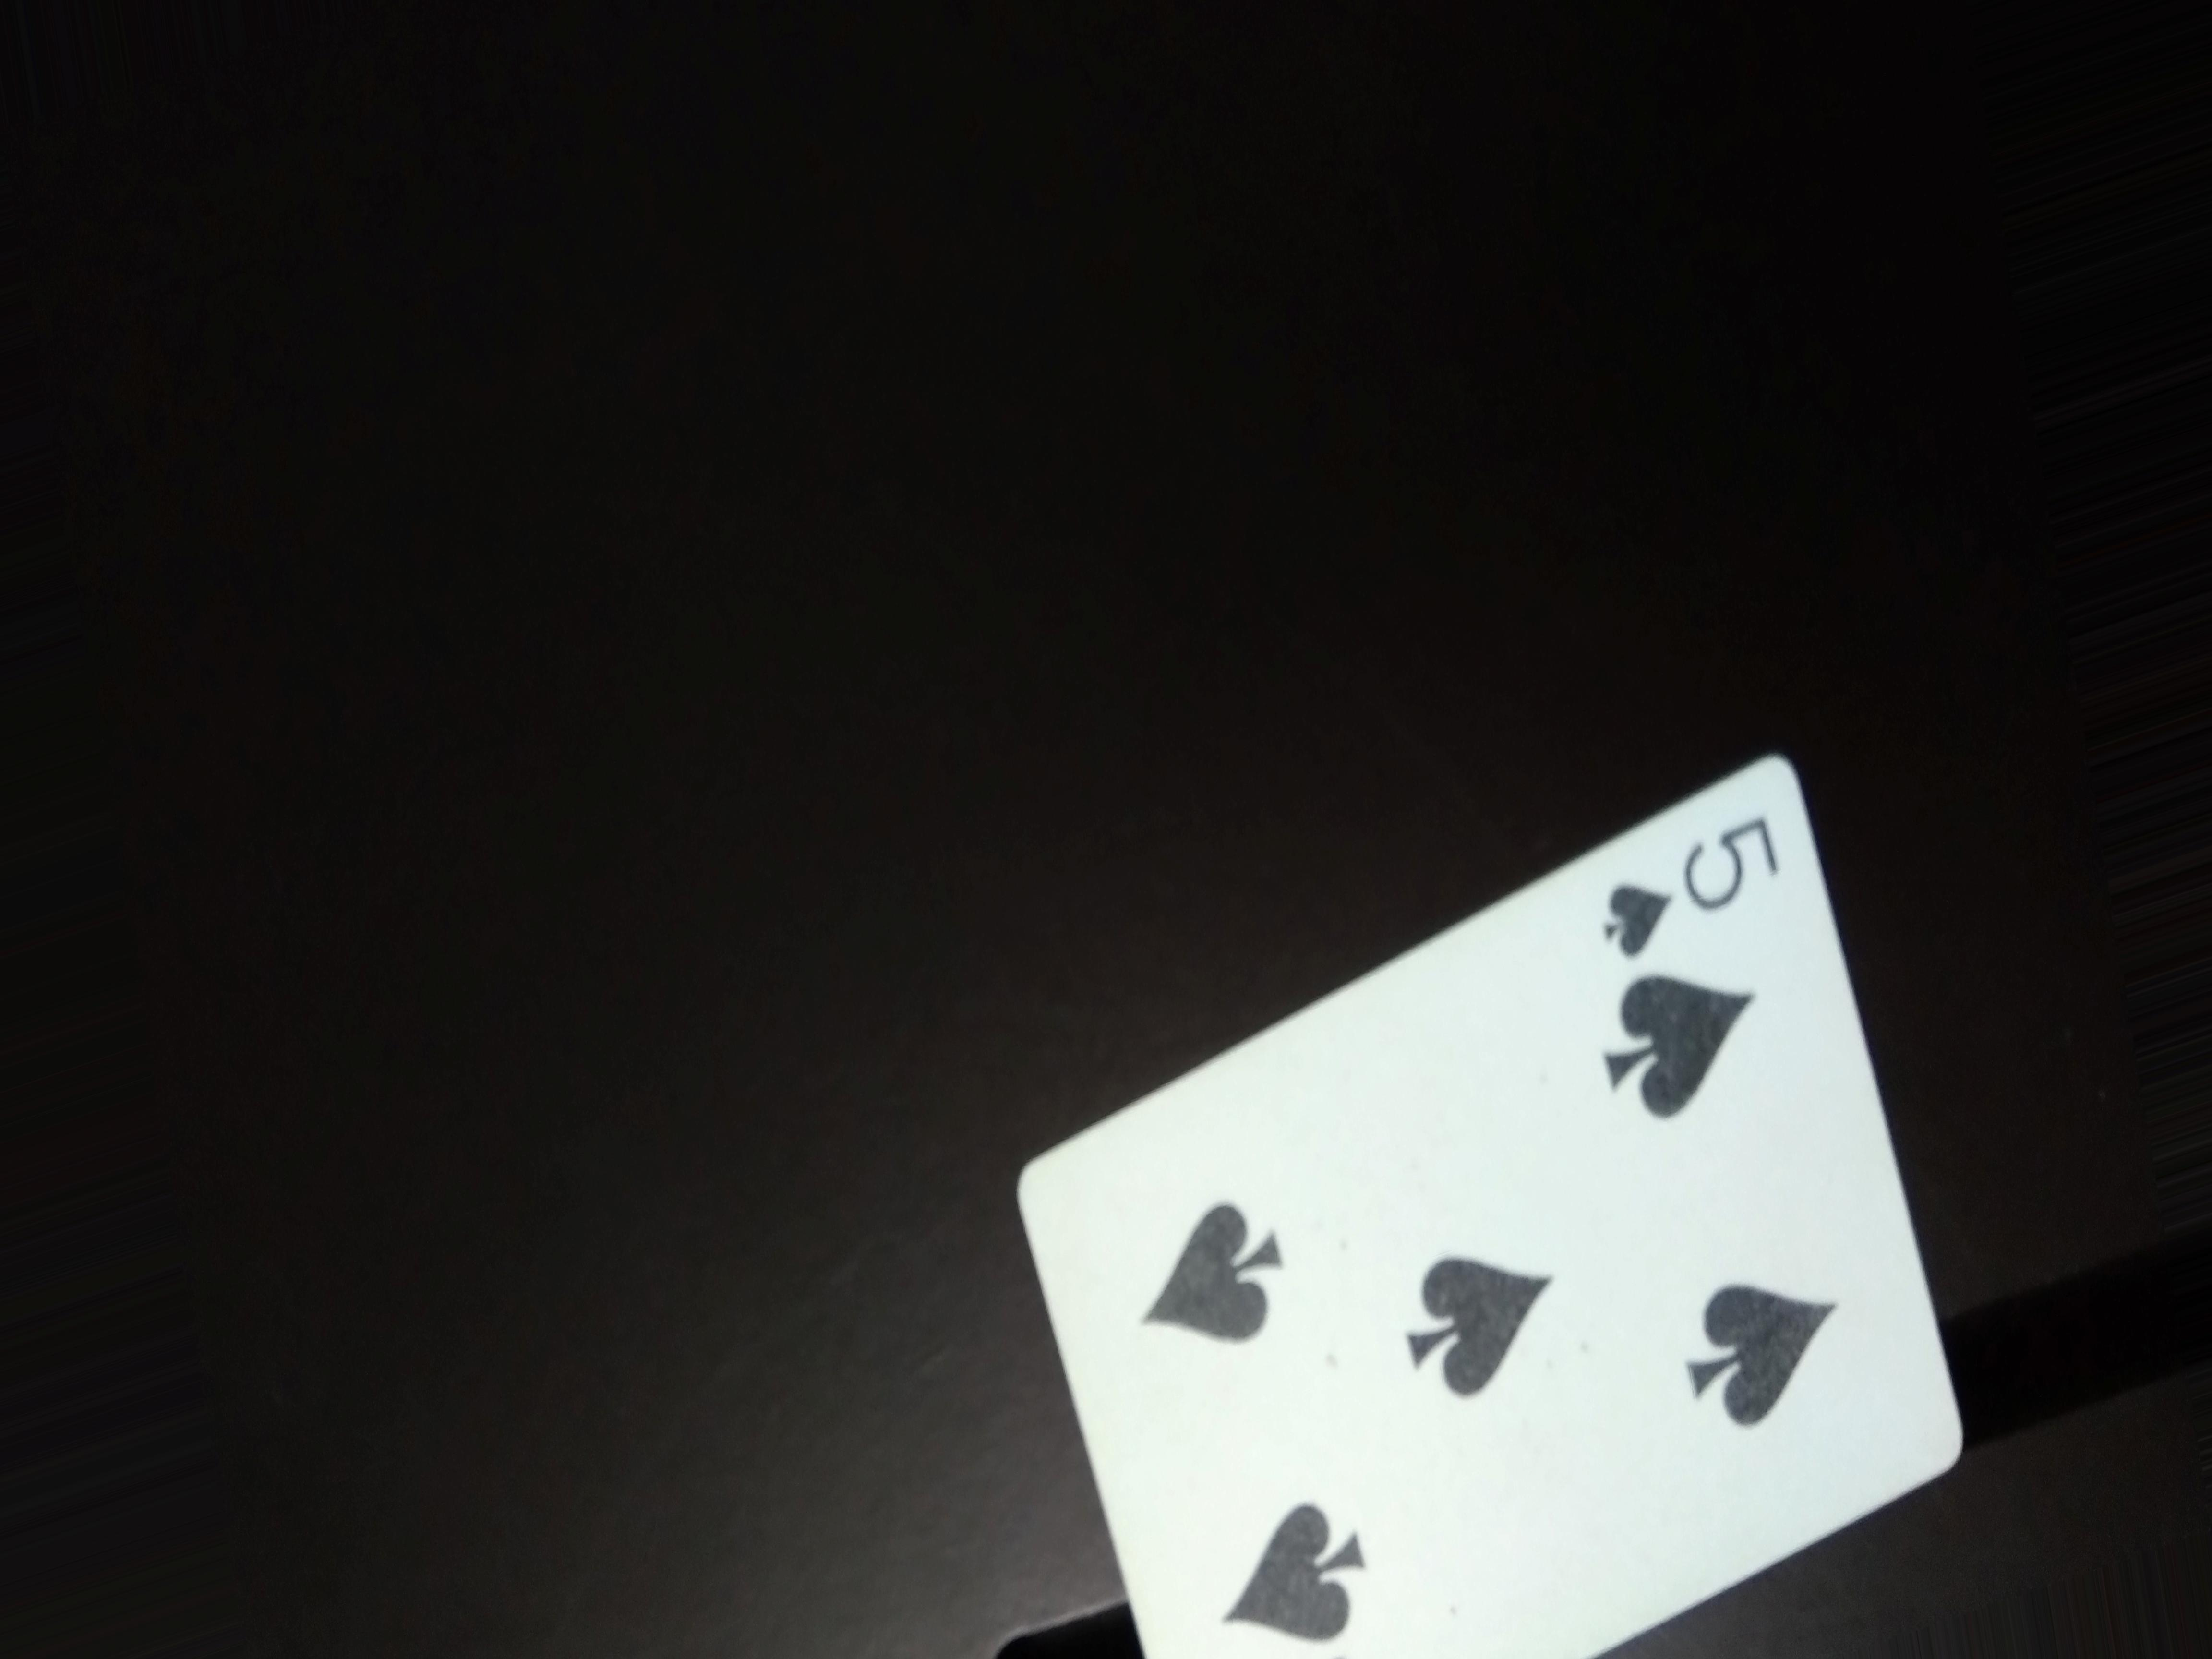5S: (1595, 800, 1792, 974)
